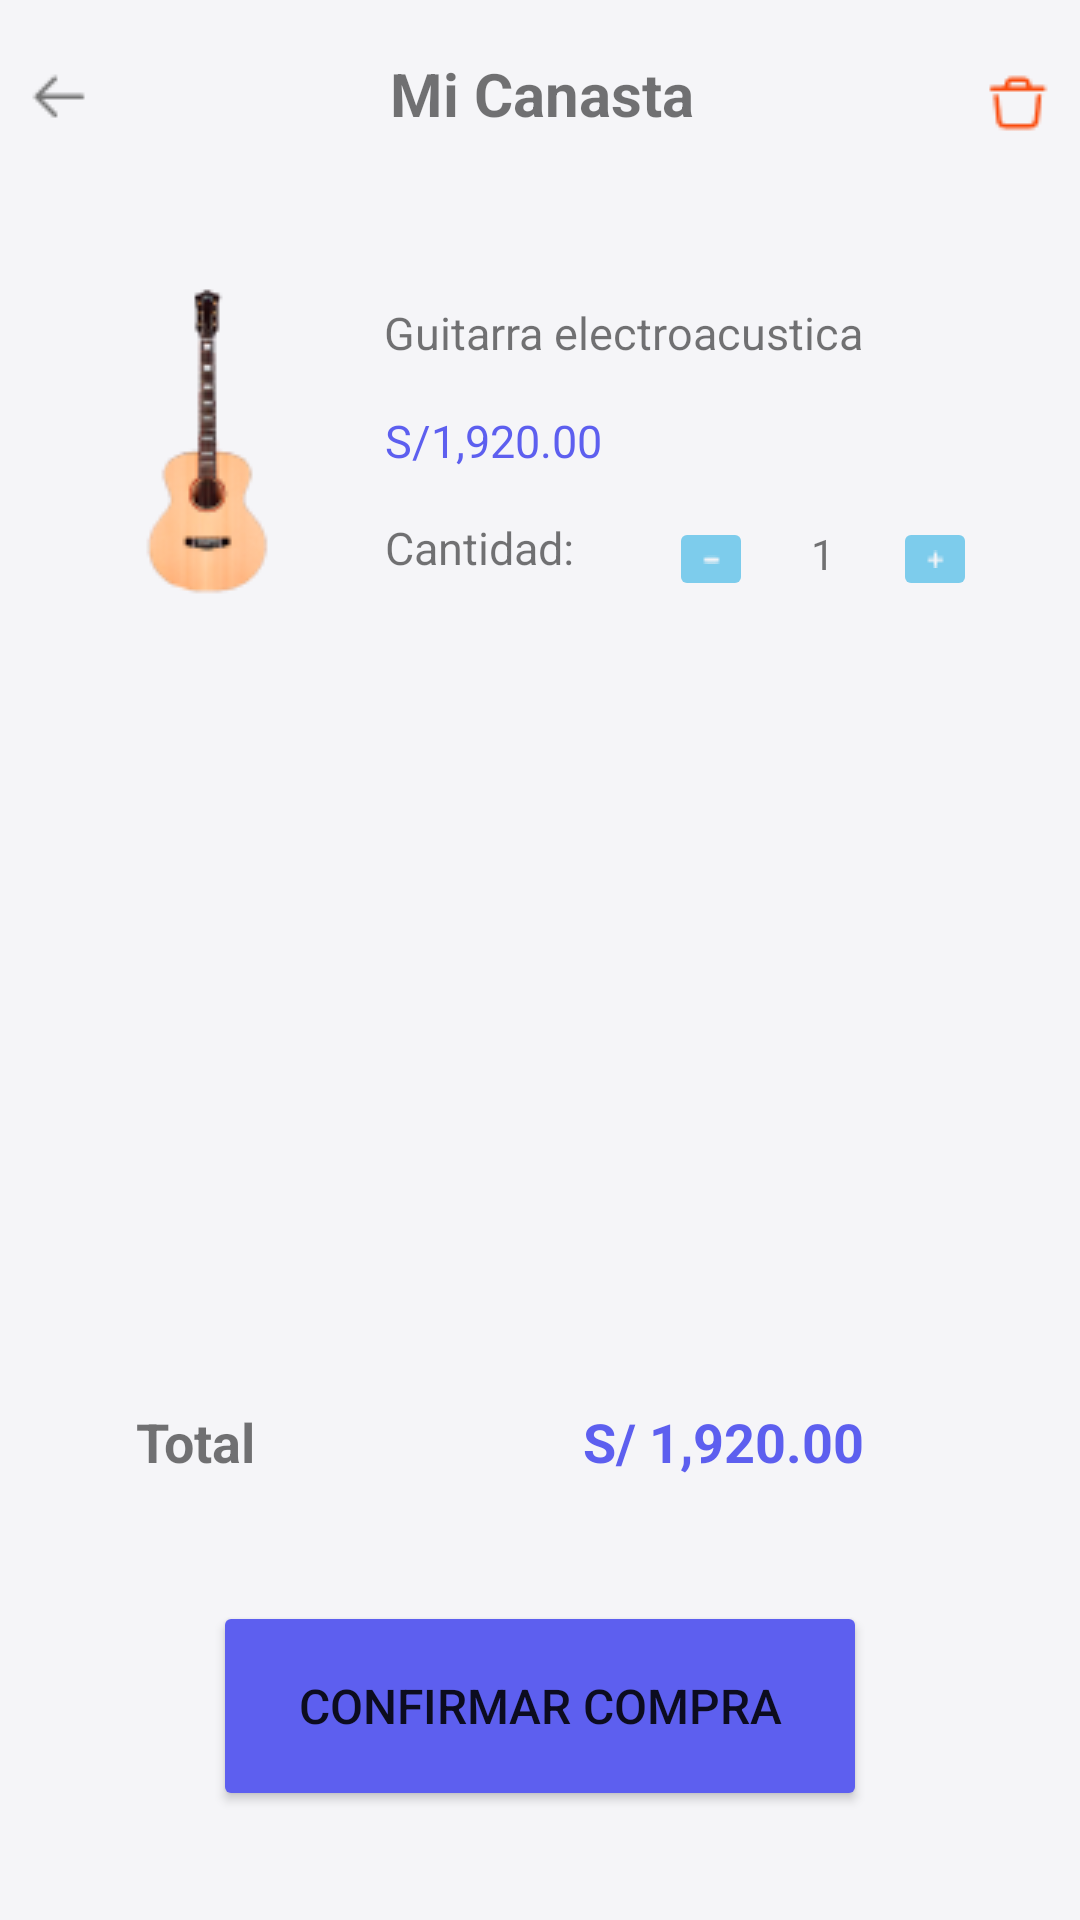

Where to tap for icons on this 1080 × 1920 app screen, as (x=x, y=y):
arrow left: (x=59, y=96)
delete: (x=1018, y=103)
mas: (x=935, y=559)
menos: (x=711, y=559)
